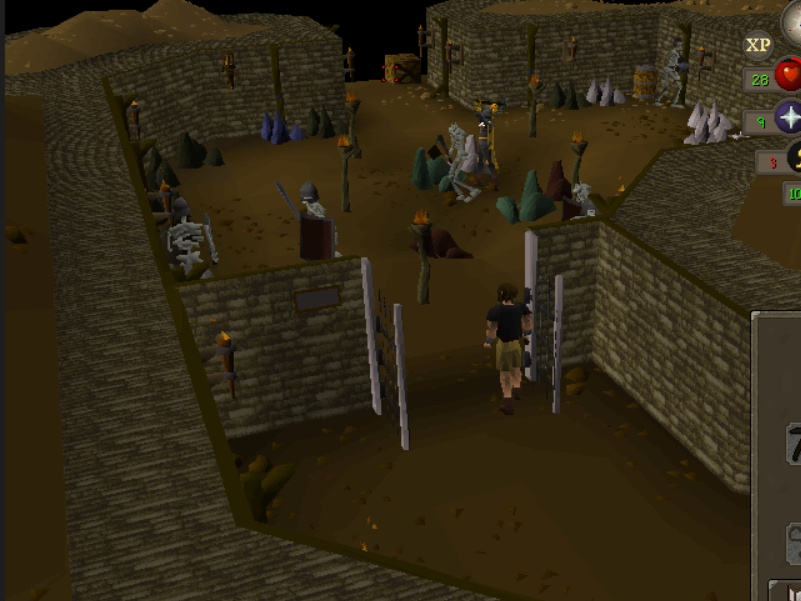adamant: (489, 166, 557, 223), (411, 139, 458, 190)
coal: (174, 128, 231, 170), (306, 103, 352, 146), (143, 144, 184, 191), (545, 78, 593, 112)
iron: (414, 222, 478, 261), (546, 157, 572, 197)
mithril: (255, 112, 308, 147)
silver: (454, 133, 484, 177), (683, 124, 740, 146), (685, 99, 733, 125)
tin: (586, 72, 631, 112)
